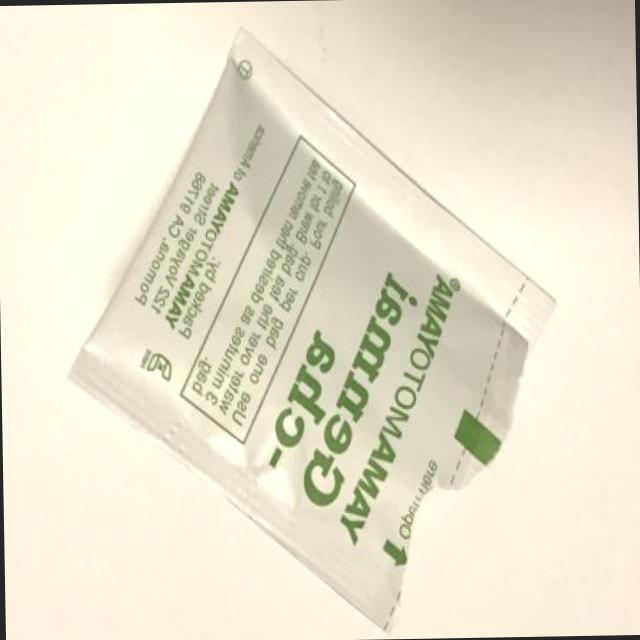giay: (68, 29, 556, 630)
